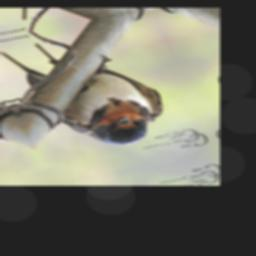Swallow: (0, 26, 179, 160)
